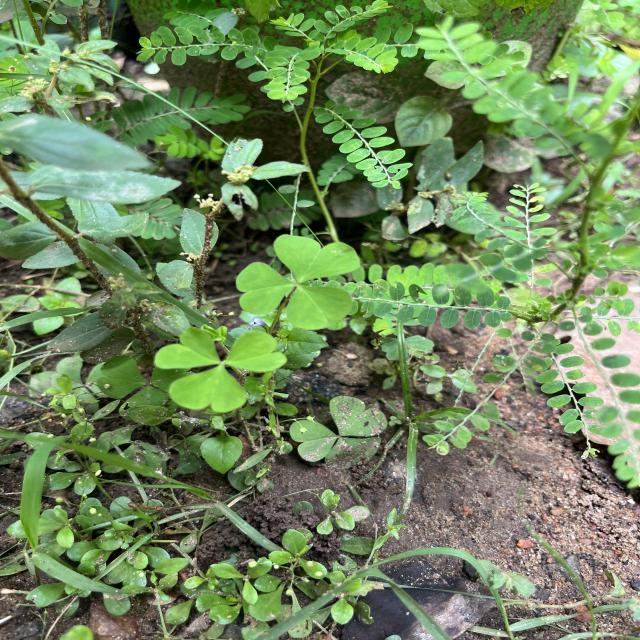Oxalis corniculata: (234, 232, 361, 332), (153, 326, 289, 414), (288, 394, 389, 469)
